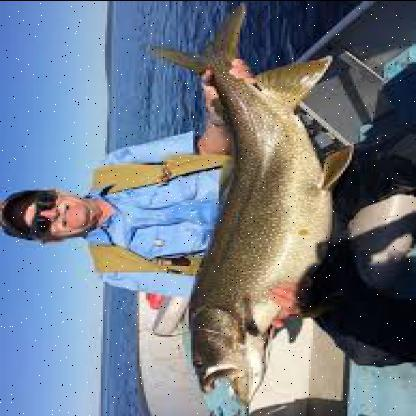fish: (141, 6, 353, 408)
